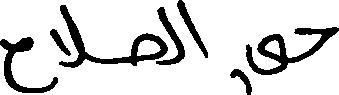X: (51, 0, 84, 93), (246, 29, 285, 94), (132, 2, 163, 70), (295, 22, 338, 66), (0, 32, 29, 94), (181, 0, 207, 64), (165, 0, 179, 69)
